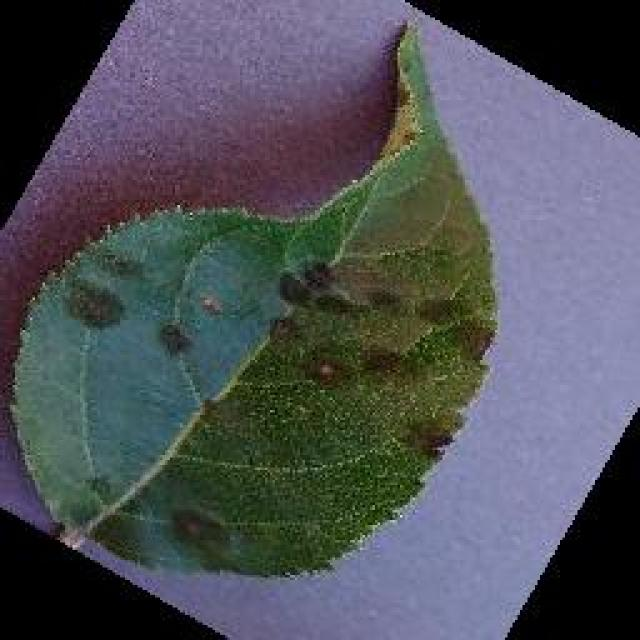apple scab disease: (5, 15, 500, 583)
